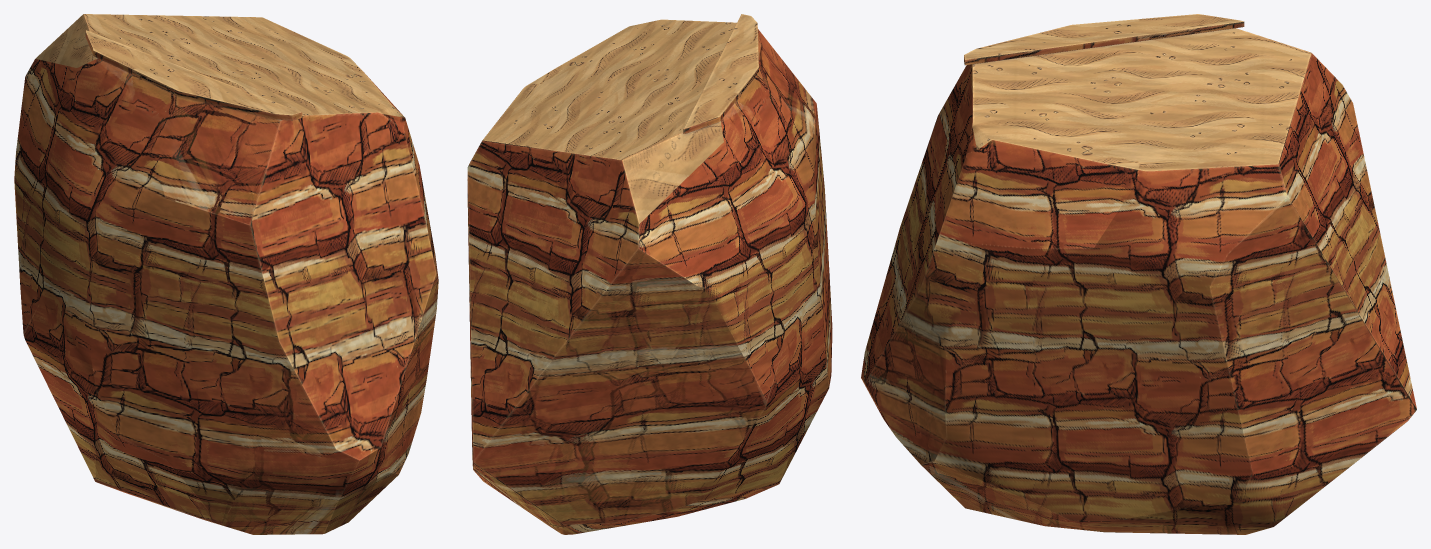
File: v4_rocher_s2e.glb
3 renders of one model, left to right at view 1: azimuth 30°, elevation 25°; view 2: azimuth 150°, elevation 25°; view 3: azimuth 270°, elevation 25°, orthographic. The views are drawn at different scales.
Parts seen in each view (by area): view 1: v4_rocher_s2e; view 2: v4_rocher_s2e; view 3: v4_rocher_s2e.
Part boxes in pixels (box(x1,y1,x2,y2)): v4_rocher_s2e: box(14, 14, 438, 534); v4_rocher_s2e: box(467, 14, 832, 534); v4_rocher_s2e: box(861, 14, 1416, 534).
Bounding box in the file's own units: 3 × 3.8 × 4.5.
Materials: 1 (1 with a texture image).
